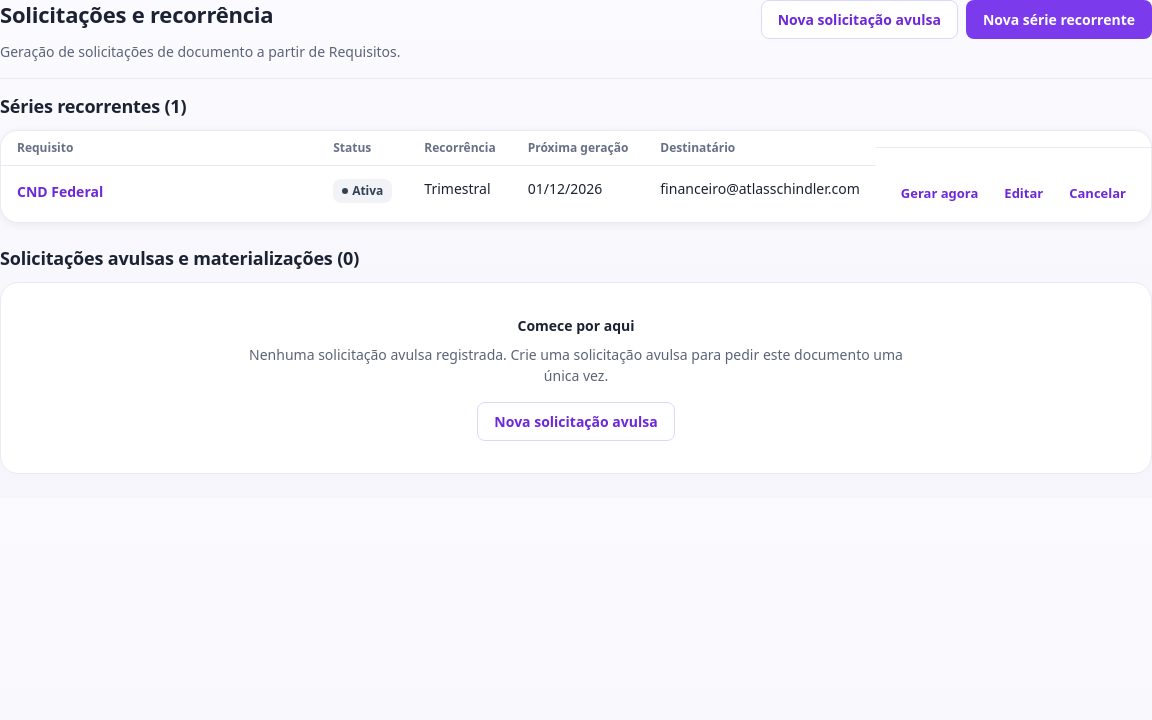
Test: SubjectRequests (A14) › cancel-series confirmation names the resource and never uses the danger variant
The width and height of the screenshot is (1152, 720).
Click the button "Cancelar" at point(1098, 194), box [1060,178,1135,210]
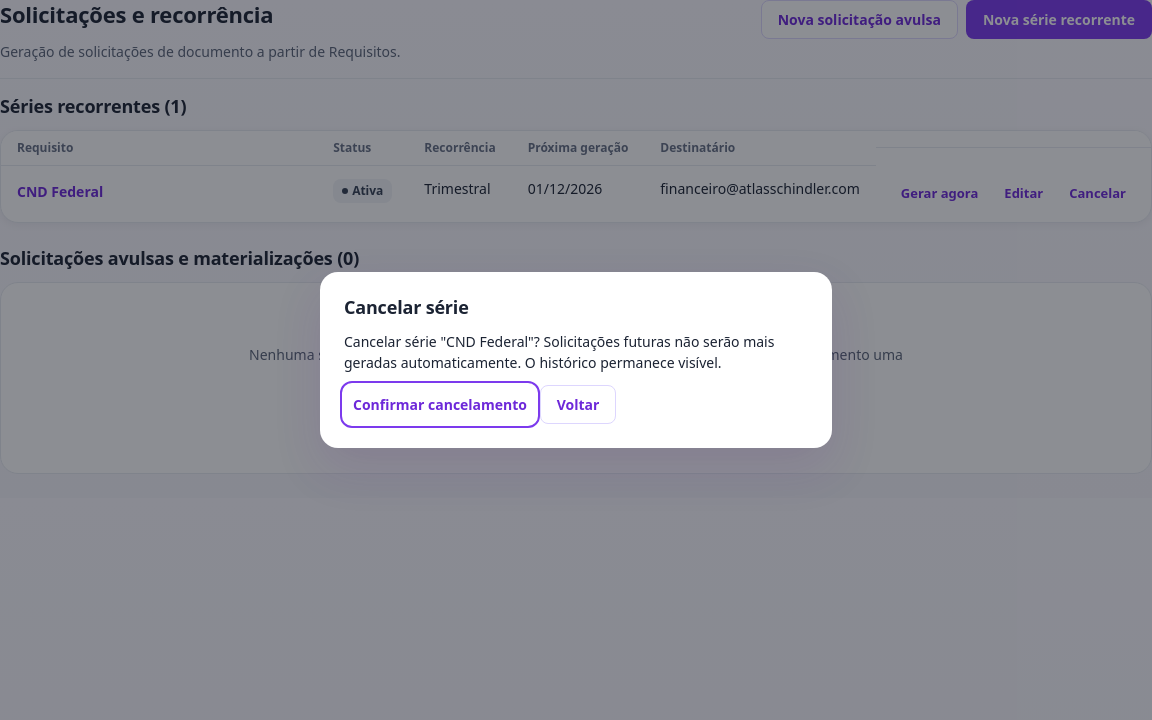
Check: the text "Cancelar série \"CND Federal\"" is shown, box [344,331,808,373]
